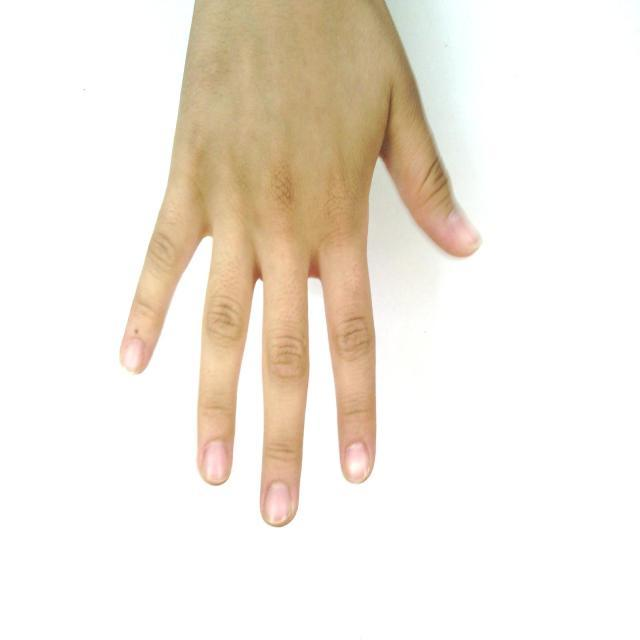Fingernail: (265, 482, 292, 524), (450, 209, 481, 243), (203, 441, 227, 482), (346, 443, 368, 481), (123, 340, 143, 371)
